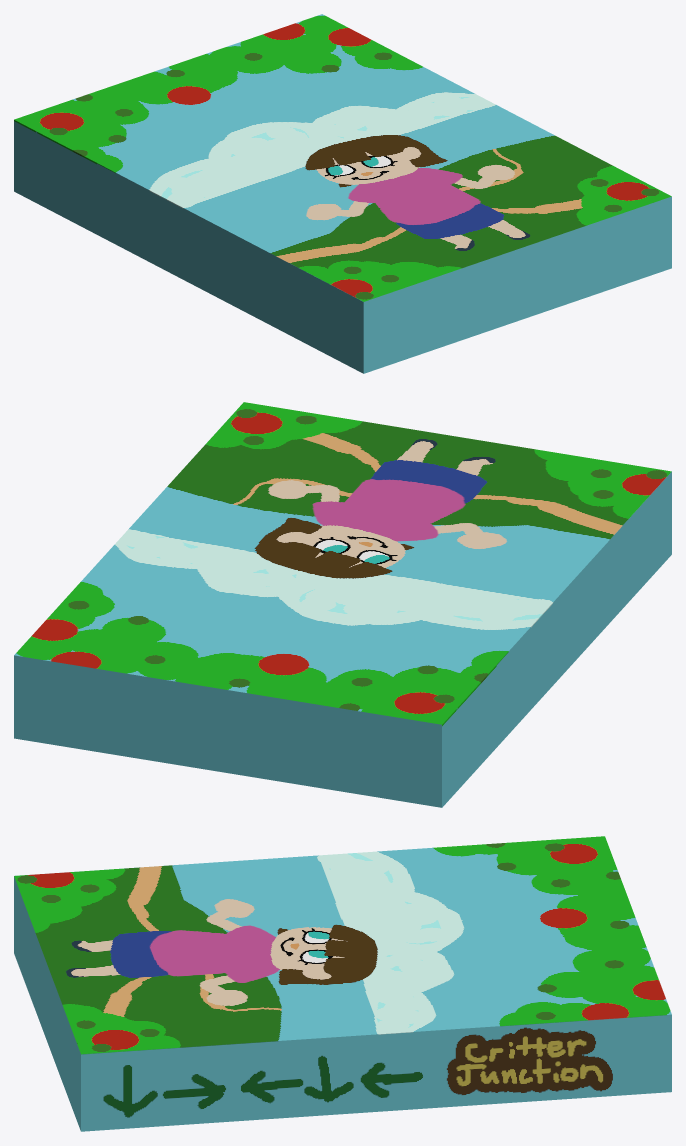
File: cri_jun_game.fbx
3 renders of one model, top to bottom at view 1: azimuth 30°, elevation 25°; view 2: azimuth 150°, elevation 25°; view 3: azimuth 270°, elevation 25°, orthographic. The views are drawn at different scales.
Parts seen in each view (by area): view 1: CriJunGame; view 2: CriJunGame; view 3: CriJunGame.
Part boxes in pixels (left/top/right/bottom): CriJunGame: left=14, top=14, right=671, bottom=373; CriJunGame: left=14, top=402, right=671, bottom=807; CriJunGame: left=14, top=836, right=671, bottom=1131.
Size of the model in its own units: 60.35 by 10 by 76.97.
1 material, 1 textured.
